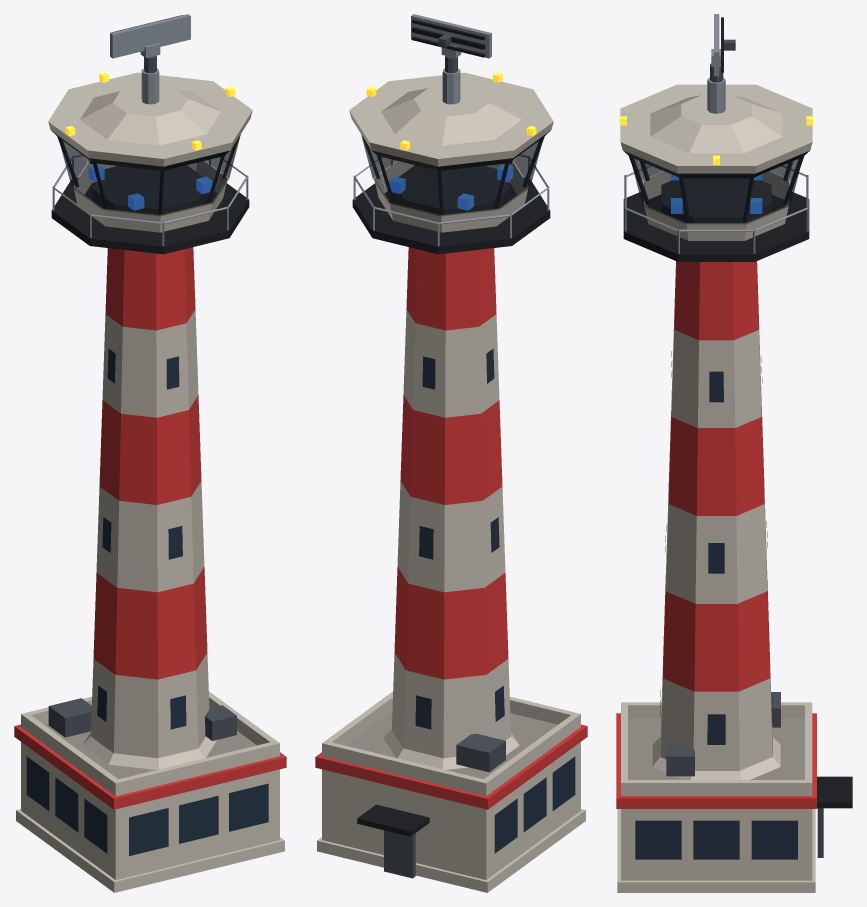
File: control_tower.glb
The picture shows the model from 3 angles, left to right: view 1: azimuth 30°, elevation 25°; view 2: azimuth 150°, elevation 25°; view 3: azimuth 270°, elevation 25°; orthographic projection.
Parts seen in each view (by area): view 1: Body, Radar; view 2: Body, Radar; view 3: Body, Radar.
Boxes of the visible parts, bbox=[...] form: Body: bbox=[14, 68, 286, 892]; Radar: bbox=[110, 14, 190, 73]; Body: bbox=[315, 68, 587, 892]; Radar: bbox=[411, 14, 491, 73]; Body: bbox=[616, 77, 852, 892]; Radar: bbox=[710, 14, 735, 82].
Bounding box in the file's own units: 8.4 × 37.75 × 9.9.
